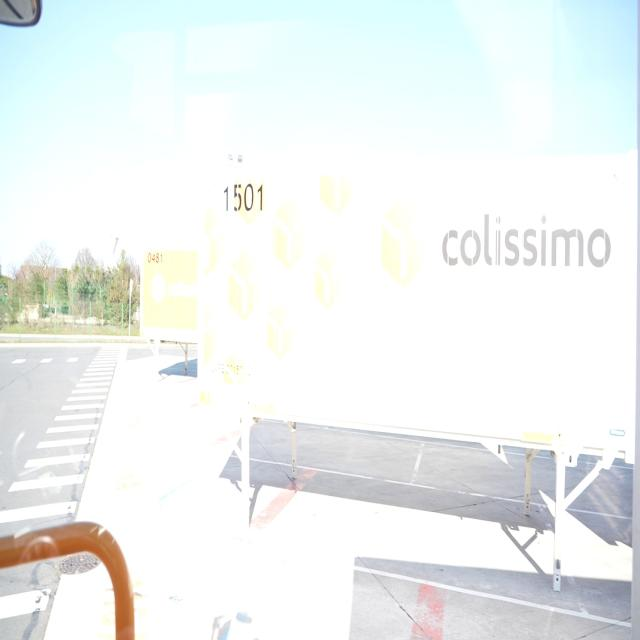Code: (220, 178, 264, 214), (143, 248, 165, 267)
